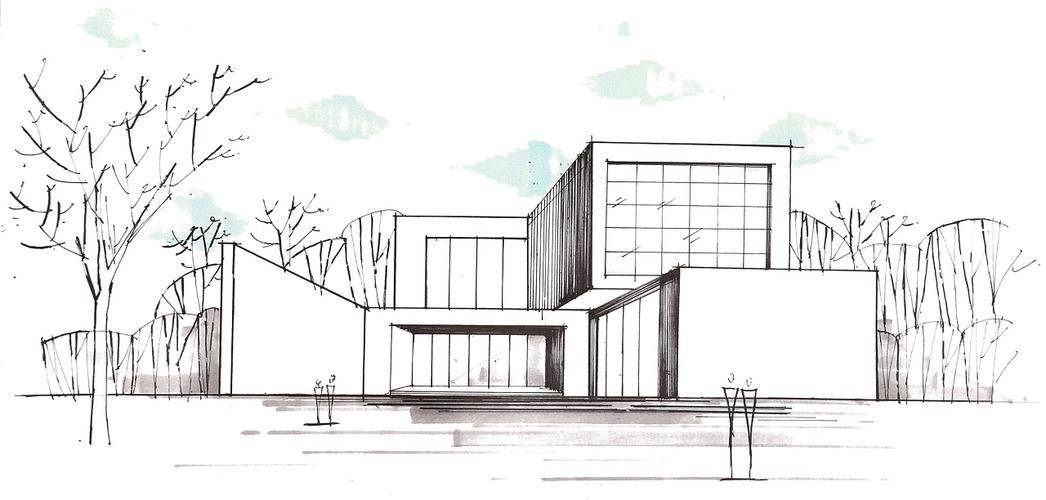buildings: (205, 136, 877, 426)
